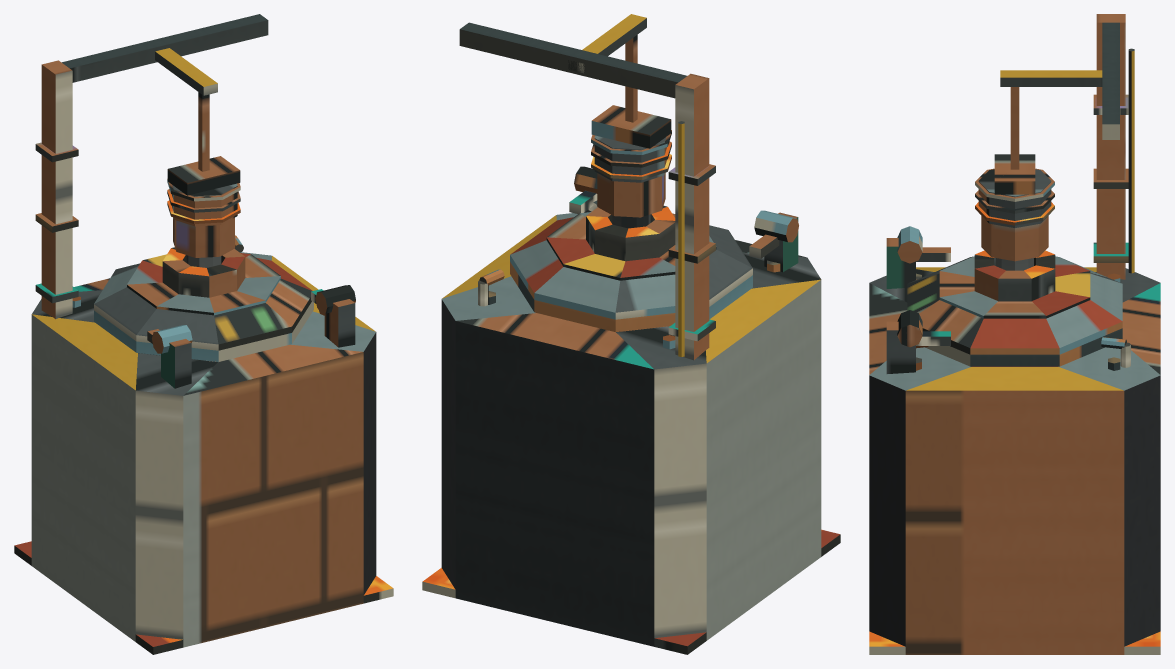
The model's file is var.obj.
3 views of the same model, side by side, from view 1: azimuth 30°, elevation 25°; view 2: azimuth 150°, elevation 25°; view 3: azimuth 270°, elevation 25° (orthographic). The views are drawn at different scales.
Parts seen in each view (by area): view 1: contact_south, contact_west, lid, cut_corners, mast, shoulder, electrode, hinge, sole_edge, carriage, suspension; view 2: contact_north, contact_west, lid, cut_corners, mast, shoulder, electrode, hinge, sole_edge, carriage, suspension; view 3: contact_east, lid, cut_corners, shoulder, mast, electrode, hinge, carriage, sole_edge, suspension, buswork.
Boxes of the visible parts, left/top/right/bottom form: contact_south: left=183, top=352, right=363, bottom=647; contact_west: left=31, top=314, right=135, bottom=641; lid: left=94, top=247, right=323, bottom=361; cut_corners: left=135, top=332, right=376, bottom=639; mast: left=35, top=14, right=268, bottom=319; shoulder: left=32, top=252, right=375, bottom=395; electrode: left=167, top=156, right=240, bottom=267; hinge: left=152, top=285, right=355, bottom=388; sole_edge: left=14, top=541, right=393, bottom=654; carriage: left=155, top=48, right=217, bottom=95; suspension: left=198, top=92, right=209, bottom=171; contact_north: left=455, top=321, right=654, bottom=646; contact_west: left=706, top=280, right=821, bottom=640; lid: left=510, top=190, right=779, bottom=332; cut_corners: left=441, top=299, right=706, bottom=638; mast: left=459, top=22, right=715, bottom=360; shoulder: left=442, top=213, right=821, bottom=369; electrode: left=591, top=105, right=671, bottom=228; hinge: left=574, top=166, right=798, bottom=272; sole_edge: left=422, top=529, right=840, bottom=654; carriage: left=568, top=14, right=646, bottom=73; suspension: left=625, top=35, right=637, bottom=122; contact_east: left=905, top=390, right=1124, bottom=654; lid: left=907, top=247, right=1122, bottom=366; cut_corners: left=869, top=375, right=1160, bottom=646; shoulder: left=869, top=267, right=1160, bottom=390; mast: left=1093, top=14, right=1134, bottom=279; electrode: left=975, top=154, right=1054, bottom=270; hinge: left=886, top=226, right=922, bottom=373; carriage: left=1000, top=70, right=1102, bottom=86; sole_edge: left=869, top=631, right=1160, bottom=654; suspension: left=1010, top=87, right=1019, bottom=169; buswork: left=916, top=337, right=1130, bottom=367.
Bounding box in the file's own units: 1 × 1.98 × 1.
